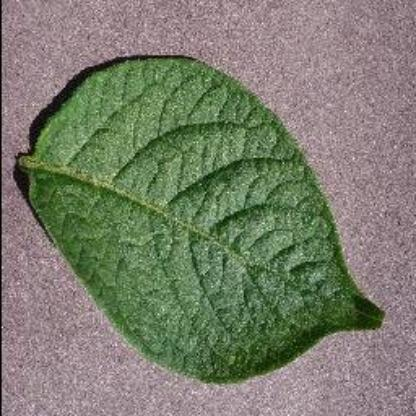Healthy-plant: (19, 51, 397, 386)
